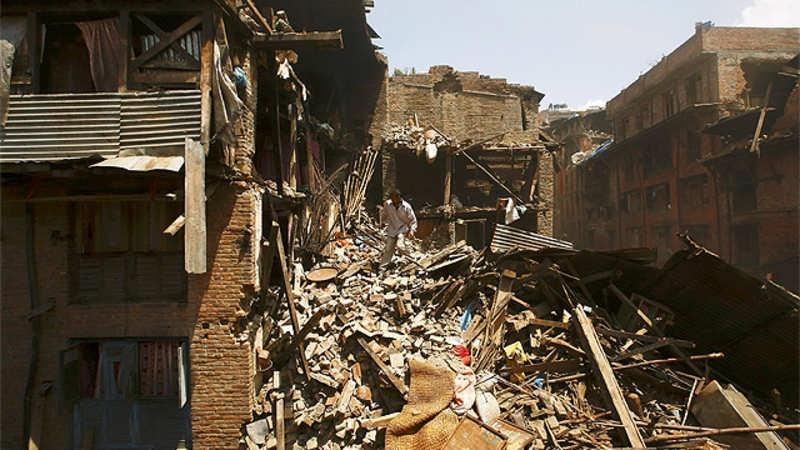victim: (376, 183, 420, 279)
